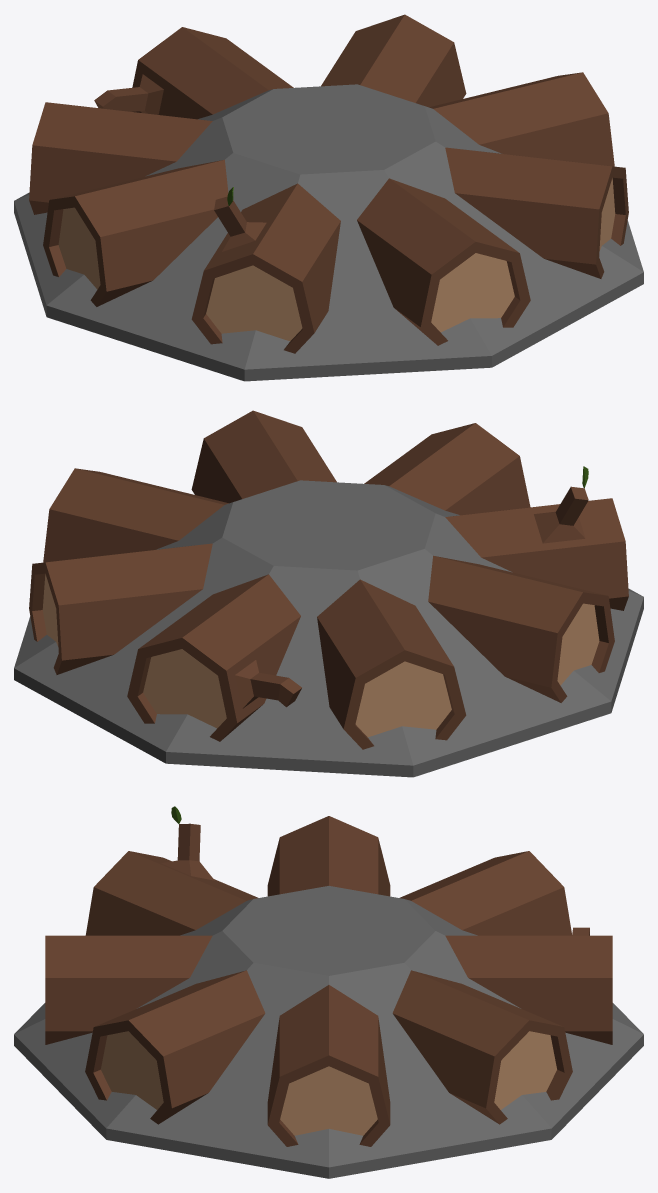
File: Fogata.fbx
3 views of the same model, one above another, from view 1: azimuth 30°, elevation 25°; view 2: azimuth 150°, elevation 25°; view 3: azimuth 270°, elevation 25° (orthographic). The views are drawn at different scales.
Parts seen in each view (by area): view 1: Cylinder.004, Cylinder, Cylinder.003, Cylinder.001, Cylinder.002; view 2: Cylinder.004, Cylinder, Cylinder.002, Cylinder.003, Cylinder.001; view 3: Cylinder.004, Cylinder.002, Cylinder.001, Cylinder, Cylinder.003.
Part boxes in pixels (box(x1,y1,x2,y2)): Cylinder.004: box(14, 84, 643, 381); Cylinder: box(94, 27, 530, 345); Cylinder.003: box(43, 72, 614, 306); Cylinder.001: box(29, 102, 628, 278); Cylinder.002: box(191, 14, 466, 353); Cylinder.004: box(14, 480, 643, 777); Cylinder: box(127, 423, 530, 741); Cylinder.002: box(29, 466, 628, 674); Cylinder.003: box(43, 468, 614, 702); Cylinder.001: box(191, 410, 466, 749); Cylinder.004: box(14, 886, 643, 1178); Cylinder.002: box(85, 806, 572, 1124); Cylinder.001: box(85, 851, 571, 1124); Cylinder: box(45, 927, 612, 1044); Cylinder.003: box(267, 816, 390, 1146).
Bounding box in the file's own units: 1000 × 275 × 1000.
Materials: 1 (1 with a texture image).
